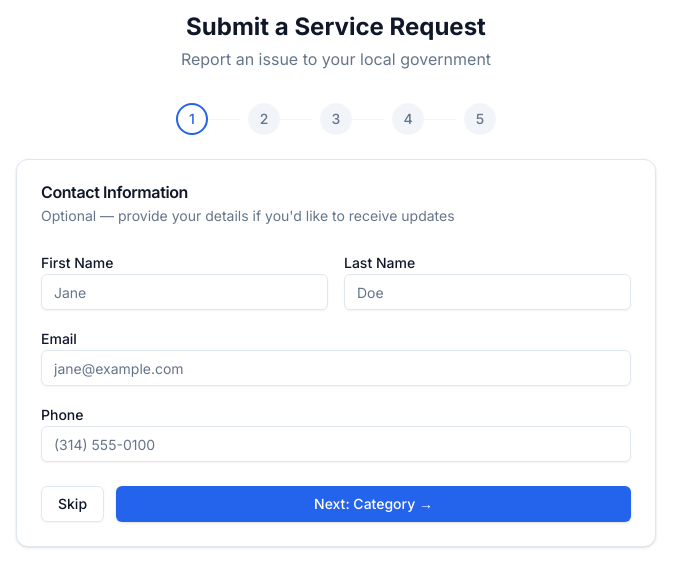
Test: Step 1: Skip advances to Step 2 without requiring any data
Click the button "Skip" at (73,504), box [41,486,104,522]
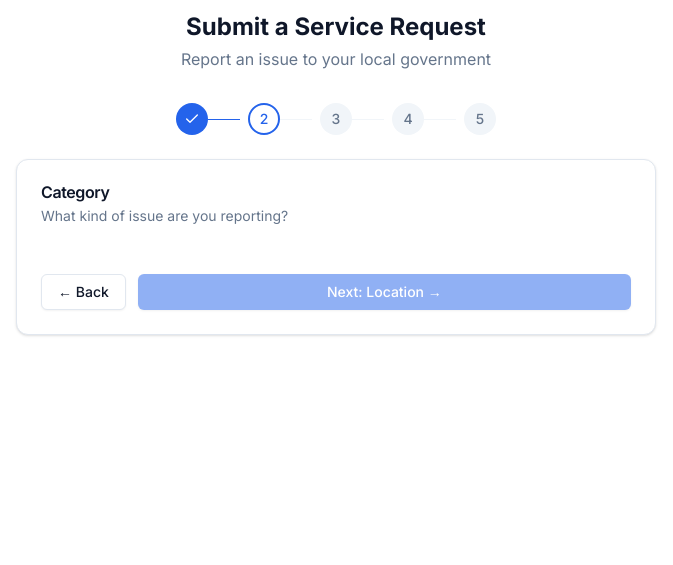
Now the text "Category" is shown, box [41,182,110,202]
